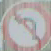Don't turn left: (4, 2, 50, 46)
